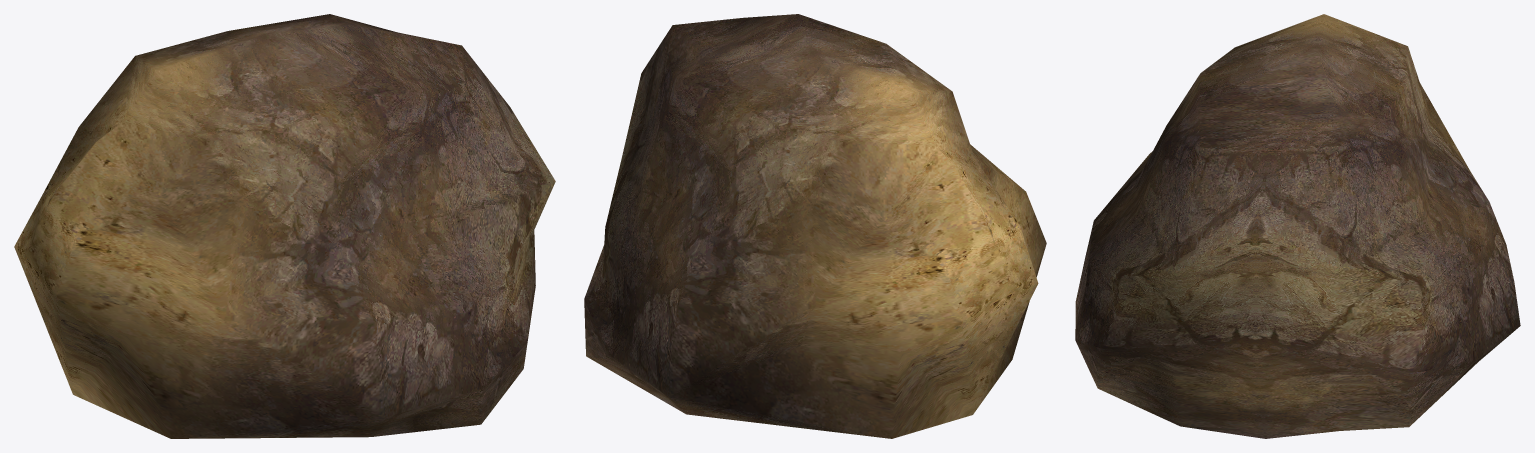
File: S_Rock_Yellow016.FBX
3 views of the same model, side by side, from view 1: azimuth 30°, elevation 25°; view 2: azimuth 150°, elevation 25°; view 3: azimuth 270°, elevation 25° (orthographic). The views are drawn at different scales.
Visible parts, largest first — view 1: S_Rock_Yellow016; view 2: S_Rock_Yellow016; view 3: S_Rock_Yellow016.
Boxes of the visible parts, box(x1,y1,x2,y2) form: S_Rock_Yellow016: box(14, 14, 555, 438); S_Rock_Yellow016: box(584, 14, 1046, 438); S_Rock_Yellow016: box(1075, 14, 1520, 438).
Size of the model in its own units: 346 by 332 by 246.
